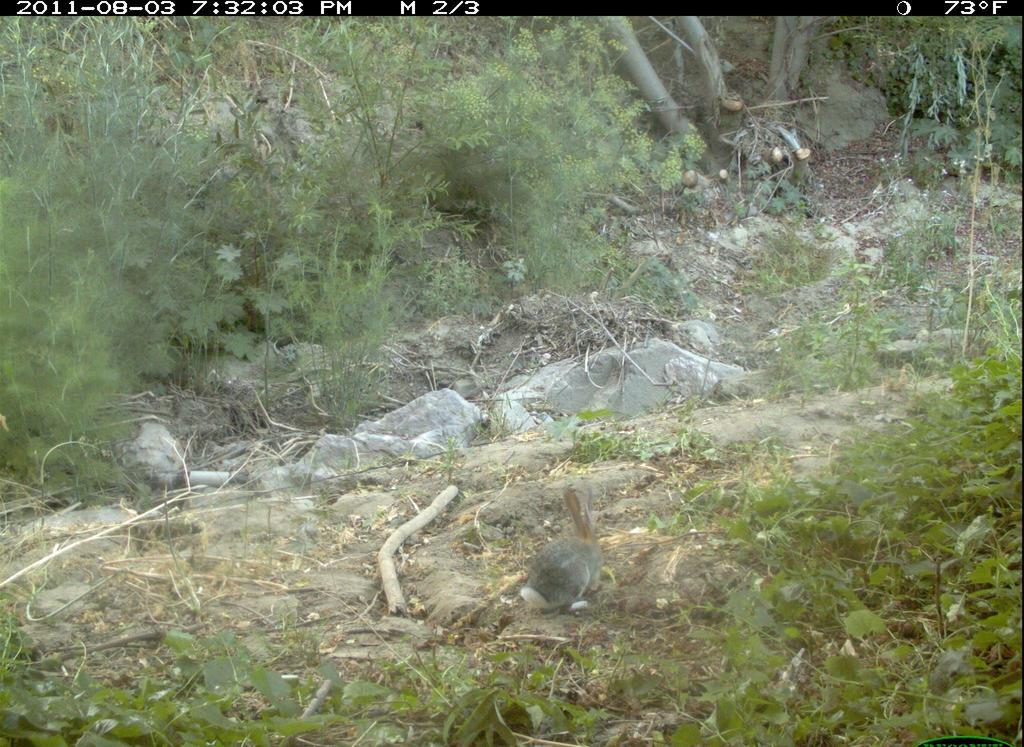rabbit: (515, 479, 616, 616)
